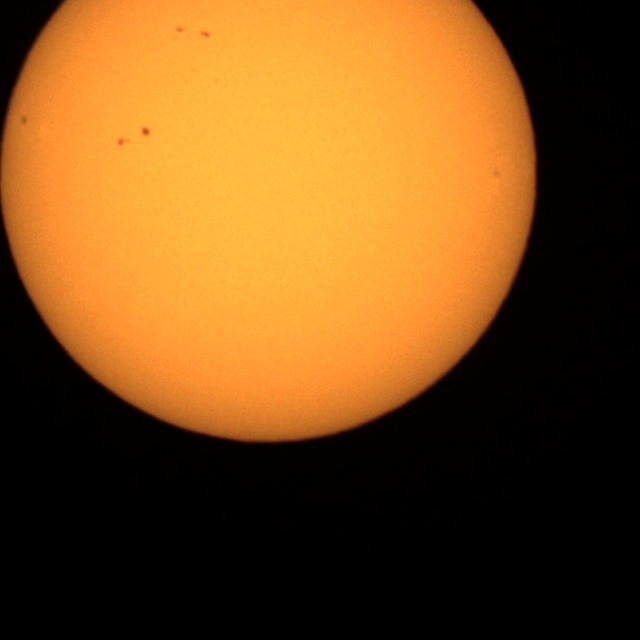sunspot: (116, 126, 152, 148), (115, 136, 132, 148), (174, 24, 188, 37), (140, 126, 151, 138), (198, 30, 211, 39), (19, 114, 28, 127)
